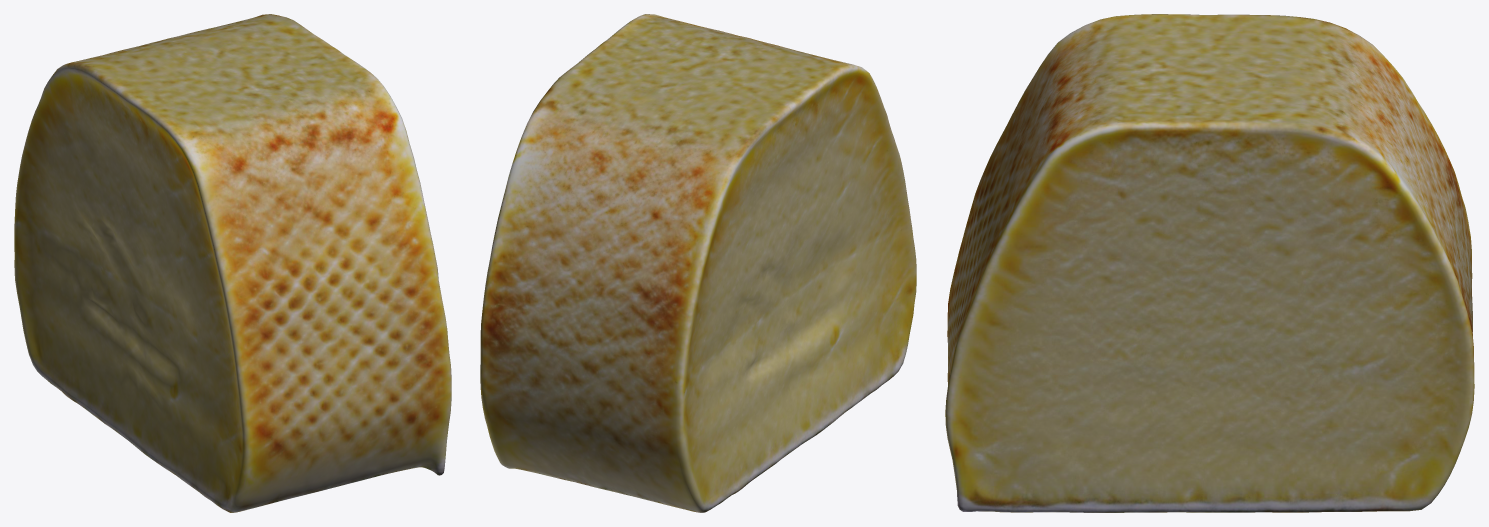
File: Parmesan.fbx
3 renders of one model, left to right at view 1: azimuth 30°, elevation 25°; view 2: azimuth 150°, elevation 25°; view 3: azimuth 270°, elevation 25°, orthographic. The views are drawn at different scales.
Parts seen in each view (by area): view 1: mesh; view 2: mesh; view 3: mesh.
Part boxes in pixels (bbox=[...]): mesh: bbox=[14, 14, 451, 512]; mesh: bbox=[480, 14, 916, 512]; mesh: bbox=[945, 14, 1474, 512].
Size of the model in its own units: 50.66 by 81.44 by 99.78.
